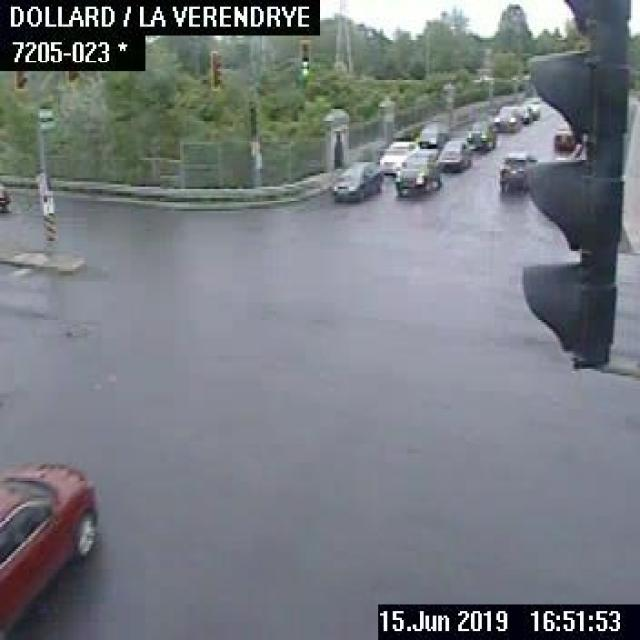vehicle: (0, 458, 98, 638), (393, 150, 441, 197), (331, 158, 378, 200), (378, 139, 420, 178), (496, 151, 531, 193), (436, 136, 471, 173), (466, 118, 496, 152), (494, 104, 522, 133), (418, 120, 447, 146), (551, 126, 571, 156), (0, 180, 9, 213)
